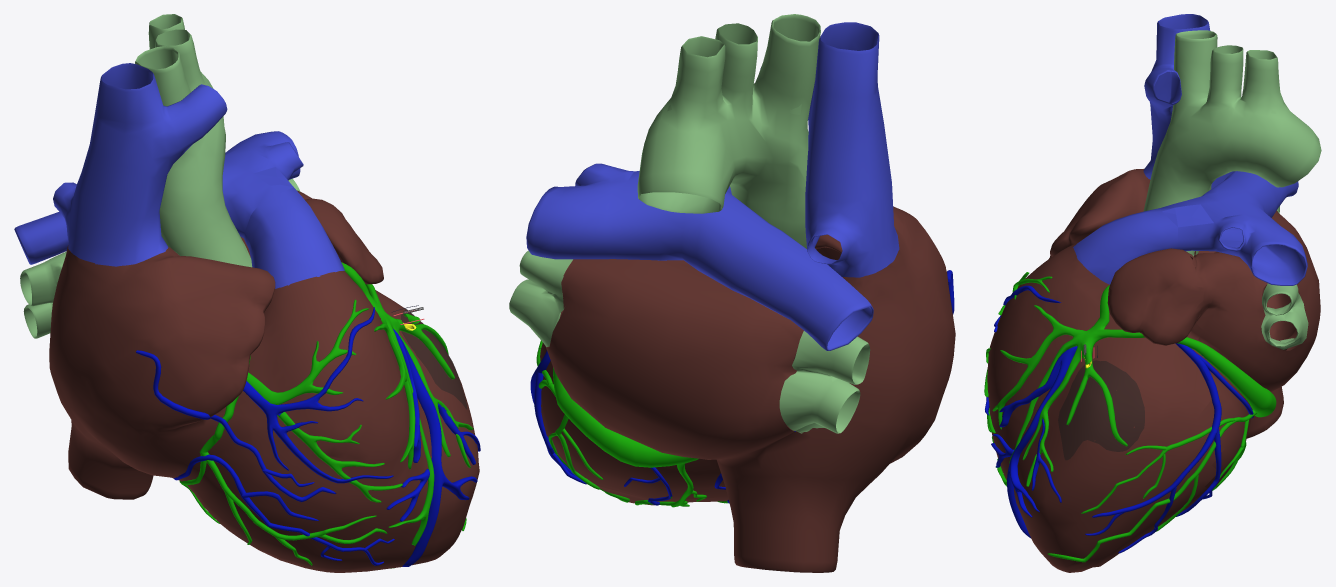
File: heart4.FBX
3 renders of one model, left to right at view 1: azimuth 30°, elevation 25°; view 2: azimuth 150°, elevation 25°; view 3: azimuth 270°, elevation 25°, orthographic. The views are drawn at different scales.
Visible parts, largest first — view 1: HP_OuterWalls, HP_Large_Viens, HP_Large_Arteries, Viens, Arteries, SCAR_TISSUE; view 2: HP_OuterWalls, HP_Large_Viens, HP_Large_Arteries, Arteries, Viens; view 3: HP_OuterWalls, HP_Large_Arteries, HP_Large_Viens, Arteries, Viens, SCAR_TISSUE, pArteryBranches.
Part boxes in pixels (<box>): HP_OuterWalls: <box>49,190,479,572</box>; HP_Large_Viens: <box>14,63,344,288</box>; HP_Large_Arteries: <box>20,14,300,338</box>; Viens: <box>136,307,480,566</box>; Arteries: <box>179,262,473,568</box>; SCAR_TISSUE: <box>401,309,467,409</box>; HP_OuterWalls: <box>540,206,955,572</box>; HP_Large_Viens: <box>526,22,899,350</box>; HP_Large_Arteries: <box>509,14,870,433</box>; Arteries: <box>536,340,728,507</box>; Viens: <box>530,270,954,505</box>; HP_OuterWalls: <box>987,169,1320,572</box>; HP_Large_Arteries: <box>1143,30,1321,349</box>; HP_Large_Viens: <box>1073,14,1307,285</box>; Arteries: <box>984,272,1276,562</box>; Viens: <box>985,285,1253,553</box>; SCAR_TISSUE: <box>1058,360,1144,460</box>; pArteryBranches: <box>1066,371,1127,446</box>.
Bounding box in the file's own units: 88.52 × 121 × 81.28.
